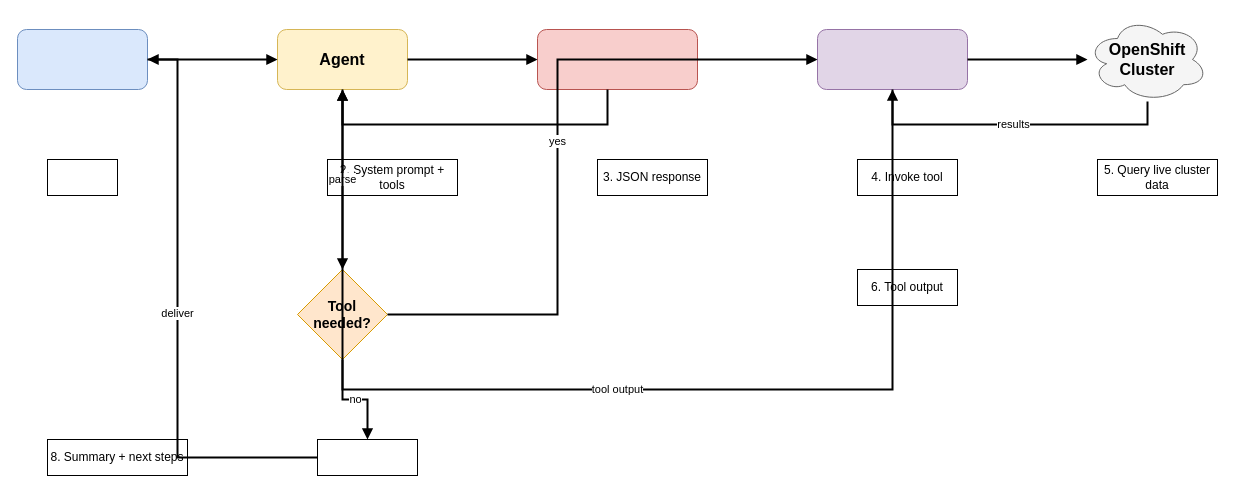
Image size: 1235x493. Some labels were removed from this diagram. Each missing label, with the centre of its shape:
"1. Prompt" goes at (x=82, y=177).
"7. Final answer" goes at (x=367, y=457).
"Ollama Model" goes at (x=617, y=59).
"OpenShift Toolkit" goes at (x=892, y=59).
"User" goes at (x=82, y=59).
